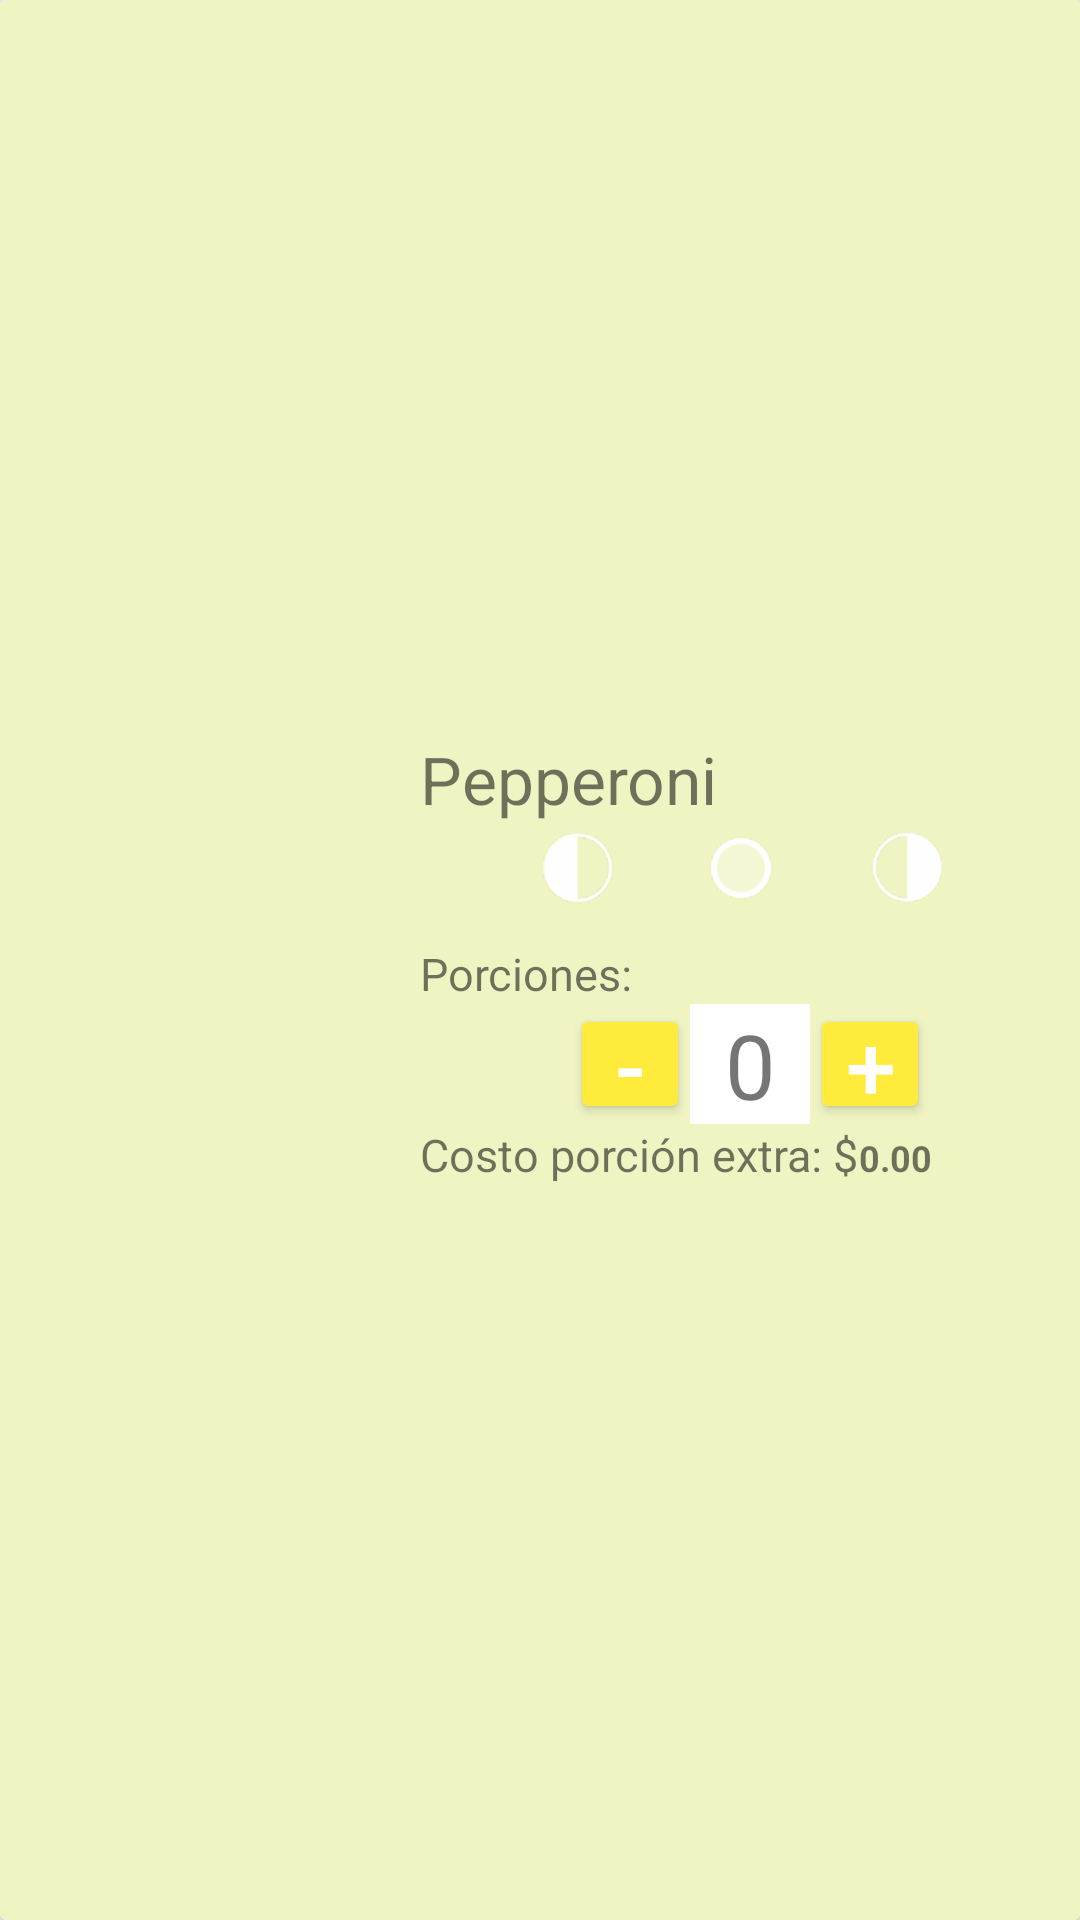

Screen size 1080px×1920px. Icon name, then its center in pixels as [x,y]:
center checkbox pizza: [741,868]
left checkbox pizza: [577,867]
right checkbox pizza: [907,867]
